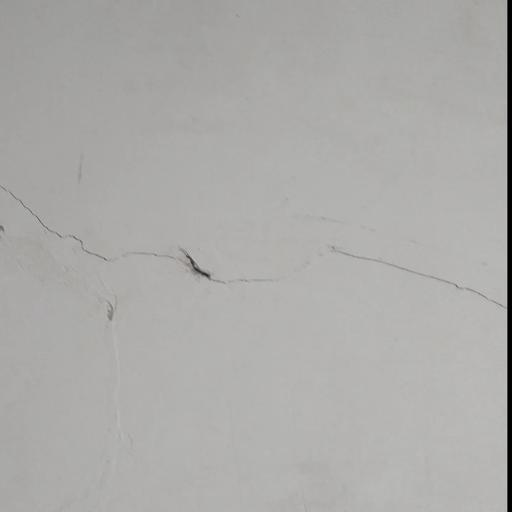minor_crack: (0, 163, 327, 301), (329, 211, 505, 319)
